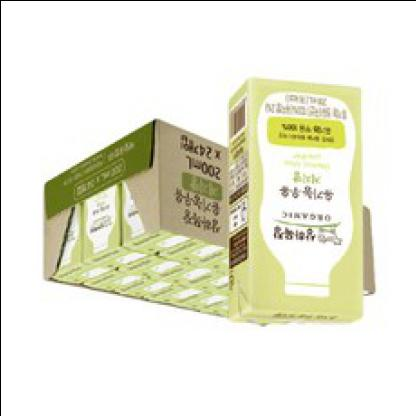tetra: (225, 72, 369, 342)
